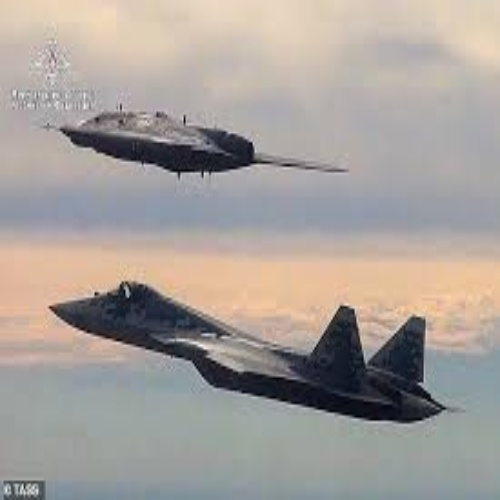uav242: (28, 106, 350, 177)
